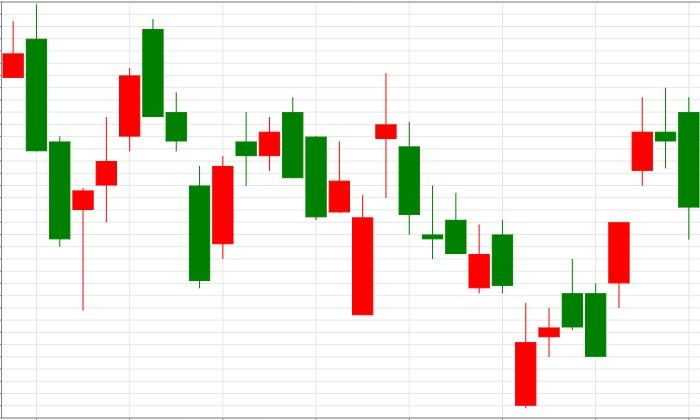bearish_engulfing_fall: (189, 96, 304, 288)
